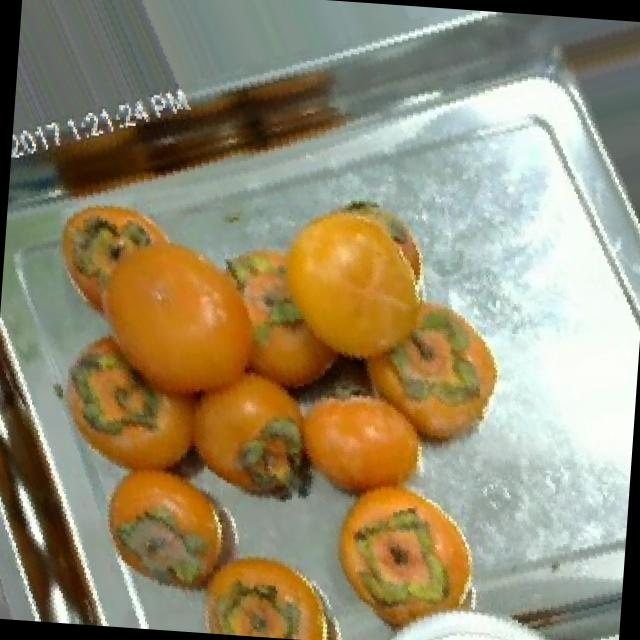Fruit: (338, 270, 525, 478), (33, 184, 222, 367), (311, 464, 503, 640)
